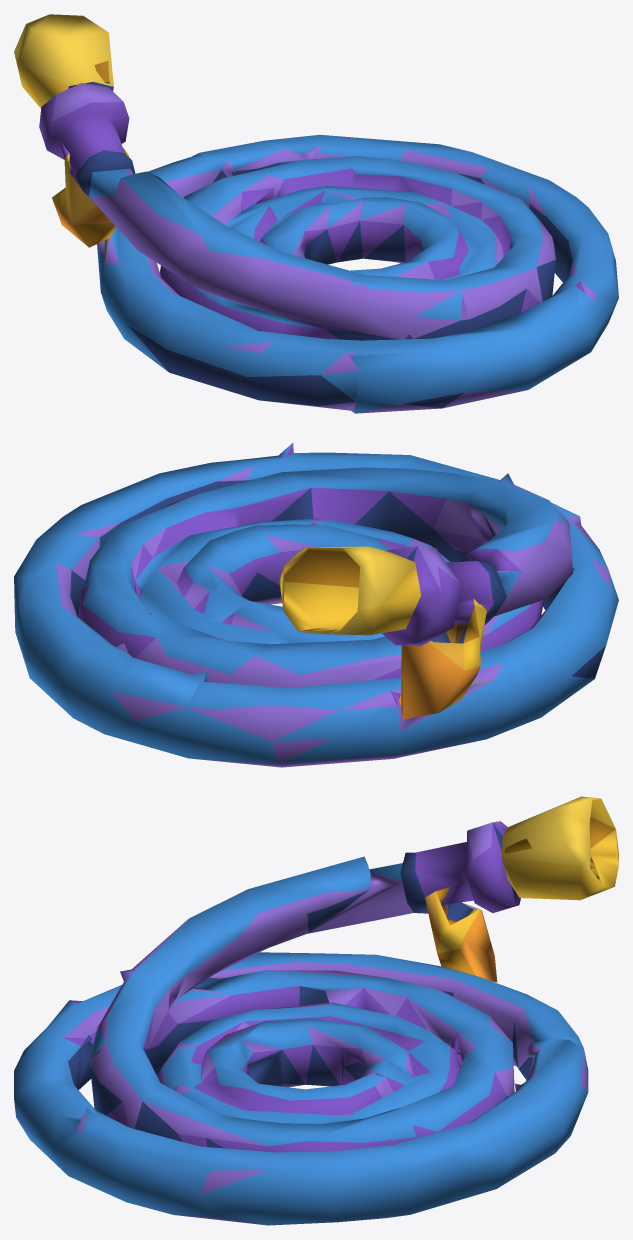
The model's file is SM_hose_coil.fbx.
3 views of the same model, one above another, from view 1: azimuth 30°, elevation 25°; view 2: azimuth 150°, elevation 25°; view 3: azimuth 270°, elevation 25° (orthographic). The views are drawn at different scales.
Visible parts, largest first — view 1: SM_hose_coil; view 2: SM_hose_coil; view 3: SM_hose_coil.
Part boxes in pixels (<box>): SM_hose_coil: <box>14,14,618,413</box>; SM_hose_coil: <box>14,443,618,767</box>; SM_hose_coil: <box>14,796,618,1225</box>.
Size of the model in its own units: 50.83 by 25 by 57.62.
Materials: 1 (1 with a texture image).
